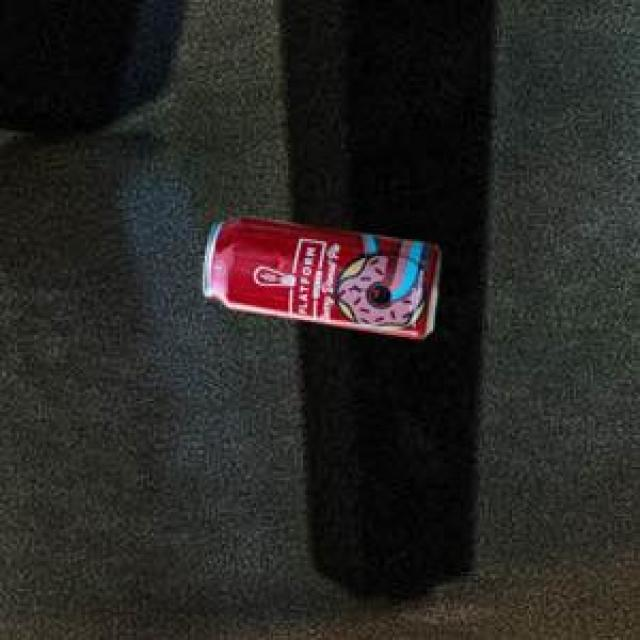metal: (201, 218, 444, 343)
